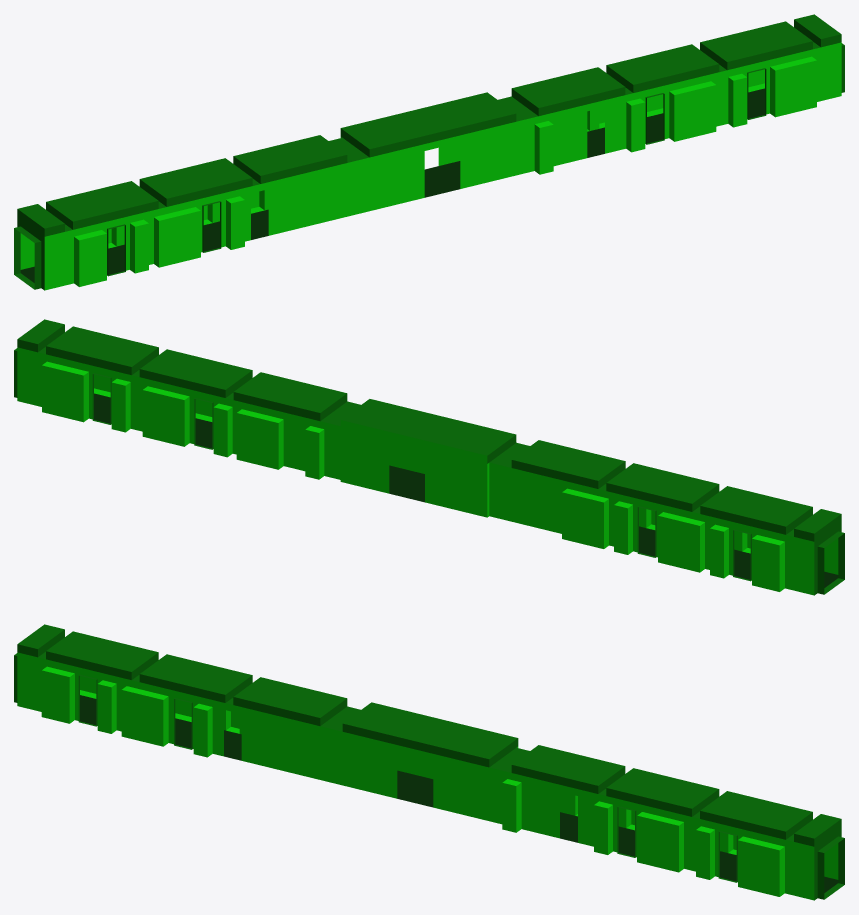
Rendered from patro2-chodbaDlouha.fbx.
3 views of the same model, one above another, from view 1: azimuth 30°, elevation 25°; view 2: azimuth 150°, elevation 25°; view 3: azimuth 330°, elevation 25° (orthographic).
Parts seen in each view (by area): view 1: ChodbaDlouha.Front, ChodbaDlouha.Top, ChodbaDlouha.Left, ChodbaDlouha.Bottom, ChodbaDlouha.Back, ChodbaDlouha.Right; view 2: ChodbaDlouha.Back, ChodbaDlouha.Top, ChodbaDlouha.Left, ChodbaDlouha.Bottom, ChodbaDlouha.Front, ChodbaDlouha.Right; view 3: ChodbaDlouha.Front, ChodbaDlouha.Top, ChodbaDlouha.Right, ChodbaDlouha.Bottom, ChodbaDlouha.Back, ChodbaDlouha.Left.
Boxes of the visible parts, x1,y1,x2,y2 form: ChodbaDlouha.Front: [34, 34, 844, 290]; ChodbaDlouha.Top: [14, 14, 844, 242]; ChodbaDlouha.Left: [17, 20, 820, 290]; ChodbaDlouha.Bottom: [14, 83, 765, 289]; ChodbaDlouha.Back: [14, 69, 764, 274]; ChodbaDlouha.Right: [111, 69, 766, 271]; ChodbaDlouha.Back: [14, 339, 824, 595]; ChodbaDlouha.Top: [14, 319, 844, 547]; ChodbaDlouha.Left: [38, 325, 841, 595]; ChodbaDlouha.Bottom: [93, 388, 844, 594]; ChodbaDlouha.Front: [94, 374, 844, 579]; ChodbaDlouha.Right: [92, 374, 747, 576]; ChodbaDlouha.Front: [14, 644, 824, 900]; ChodbaDlouha.Top: [14, 624, 844, 852]; ChodbaDlouha.Right: [38, 629, 841, 900]; ChodbaDlouha.Bottom: [79, 690, 844, 899]; ChodbaDlouha.Back: [80, 676, 844, 884]; ChodbaDlouha.Left: [78, 675, 733, 878].
Bounding box in the file's own units: 3630 × 265 × 290.
